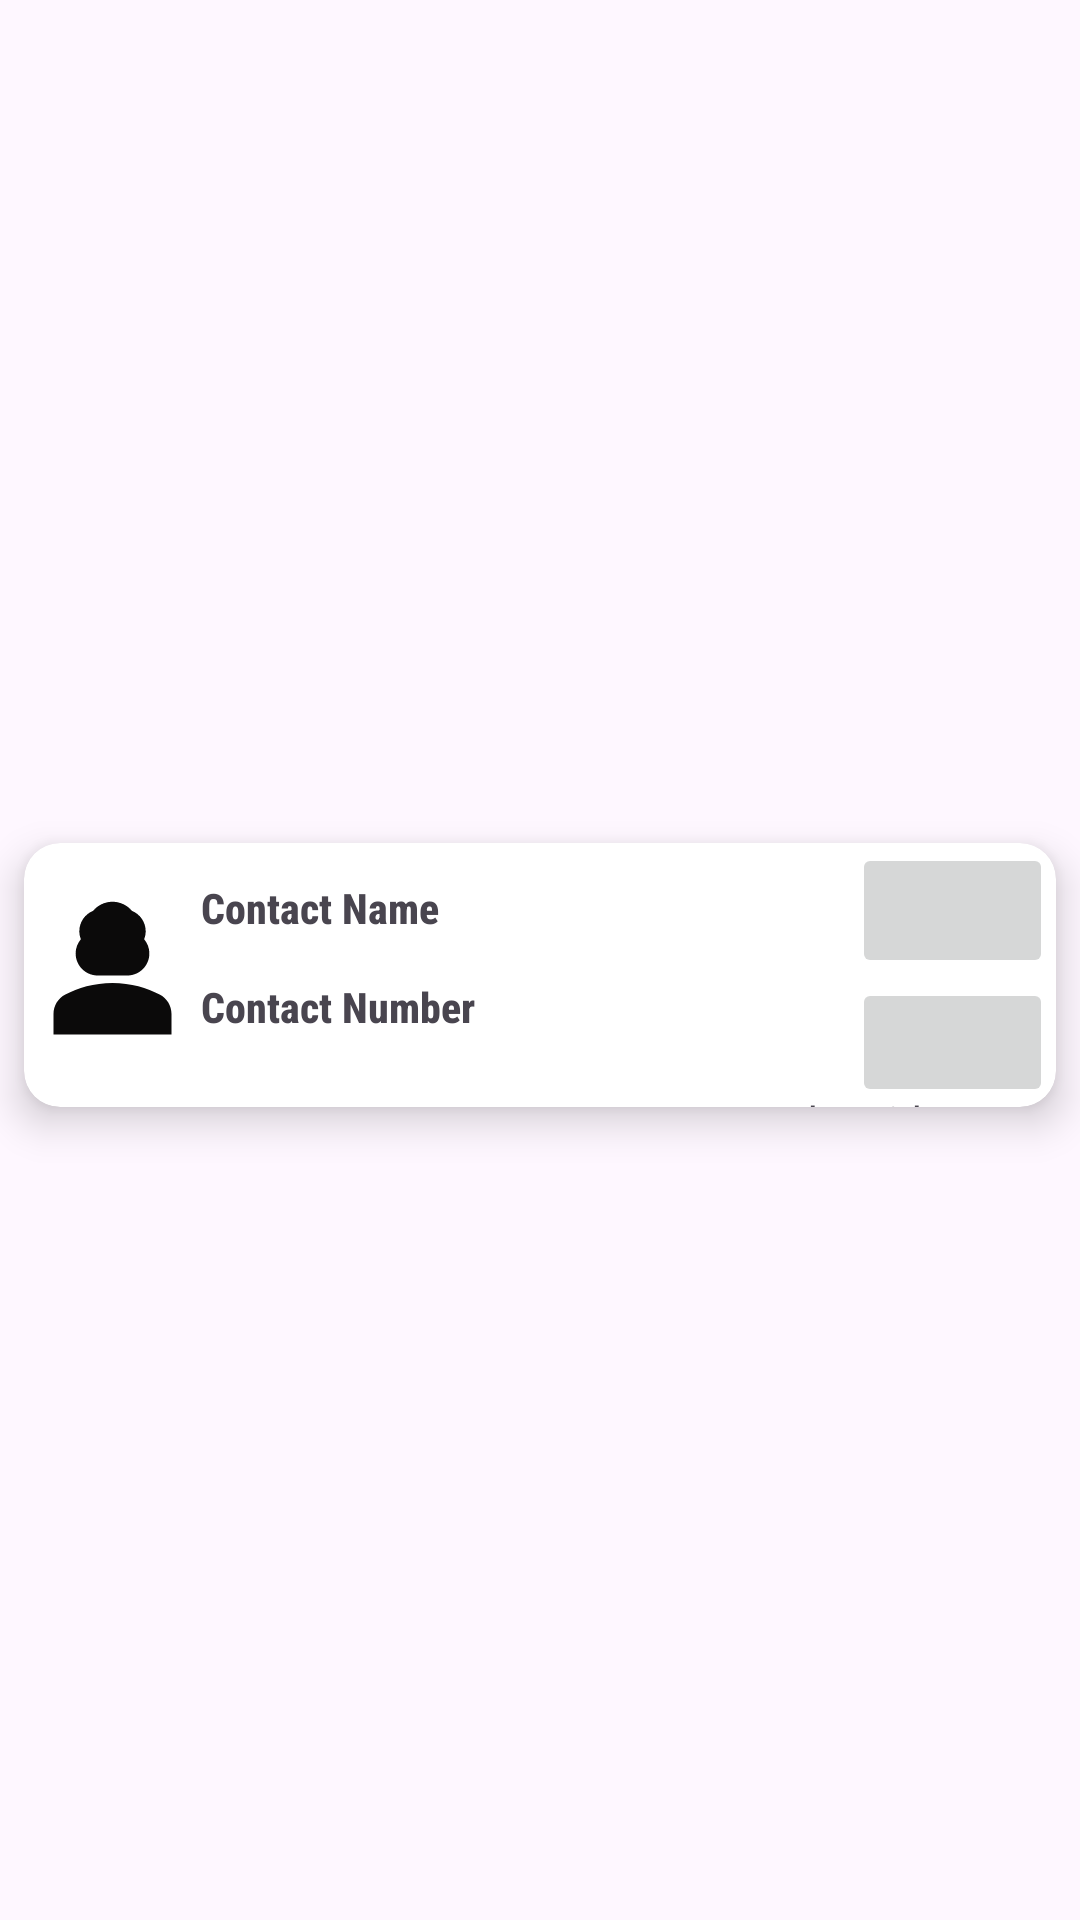

Icon click points for this 1080x1920 phone screenshot, format point (x, y):
person: point (104, 942)
